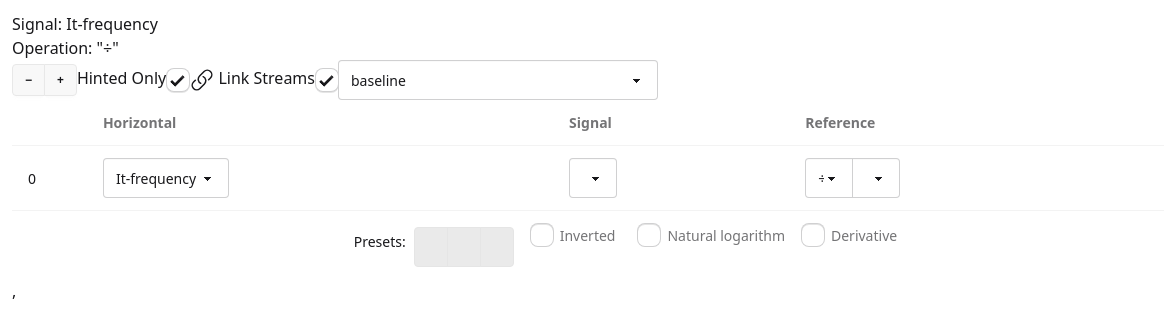
Test: the SingleRunPicker() component › applies transmission preset
Click the button named "Row 0 transmission preset" at [497, 247], box [480, 227, 514, 267]
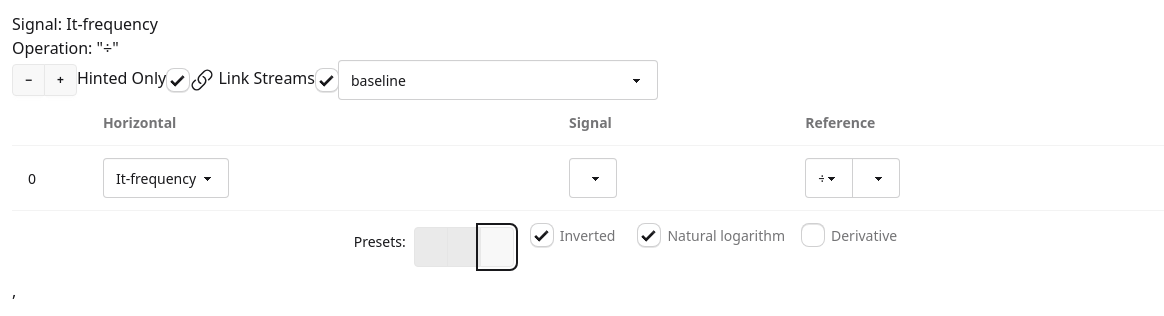
Expected: the dropdown named "Row 0 reference operation" shows "÷", [805, 158, 853, 198]
Expected: the checkbox labelled "Inverted" is checked, [530, 223, 554, 247]
Expected: the checkbox labelled "Natural logarithm" is checked, [638, 223, 662, 247]
